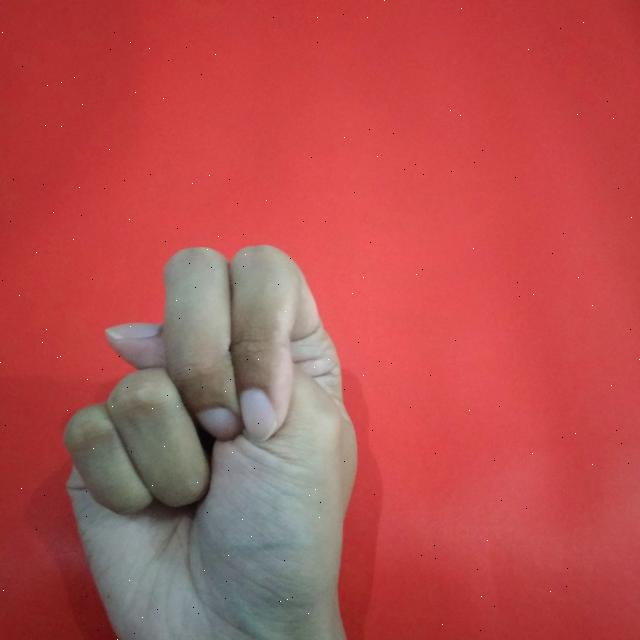N: (61, 237, 366, 640)
